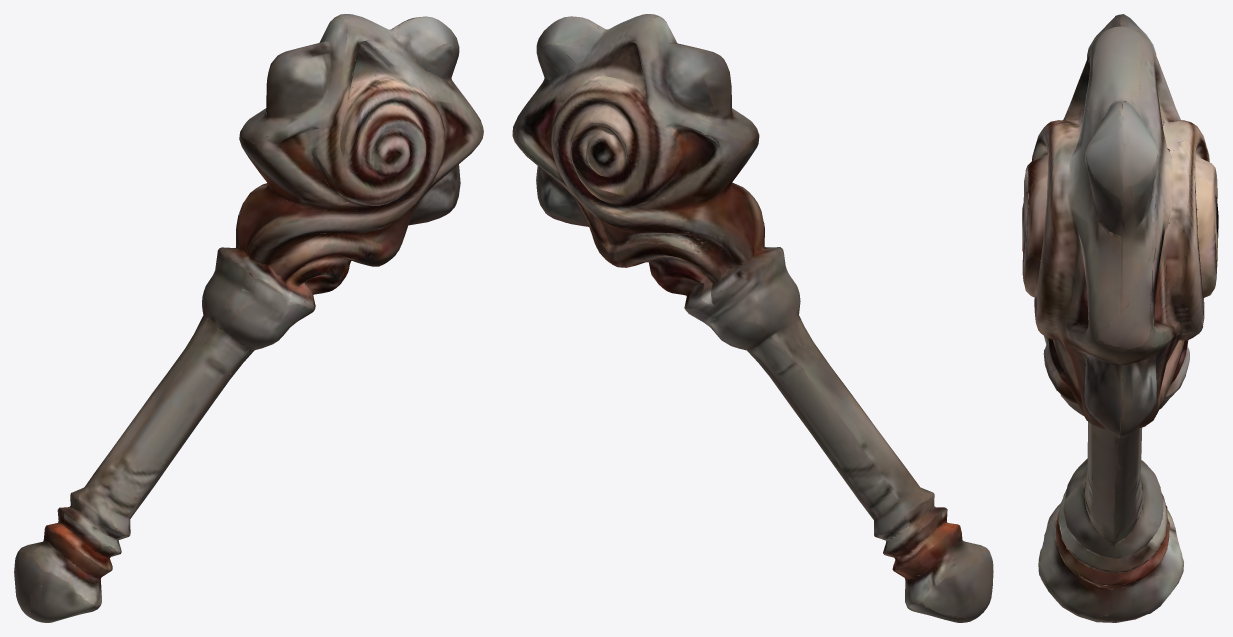
Rendered from maca_marajoara.glb.
3 renders of one model, left to right at view 1: azimuth 30°, elevation 25°; view 2: azimuth 150°, elevation 25°; view 3: azimuth 270°, elevation 25°, orthographic. The views are drawn at different scales.
Visible parts, largest first — view 1: maca_marajoara; view 2: maca_marajoara; view 3: maca_marajoara.
Part boxes in pixels (box(x1,y1,x2,y2)): maca_marajoara: box(14, 14, 483, 622); maca_marajoara: box(512, 14, 993, 622); maca_marajoara: box(1022, 14, 1218, 622).
Bounding box in the file's own units: 0.2239 × 0.2428 × 0.0543.
Materials: 1 (1 with a texture image).
